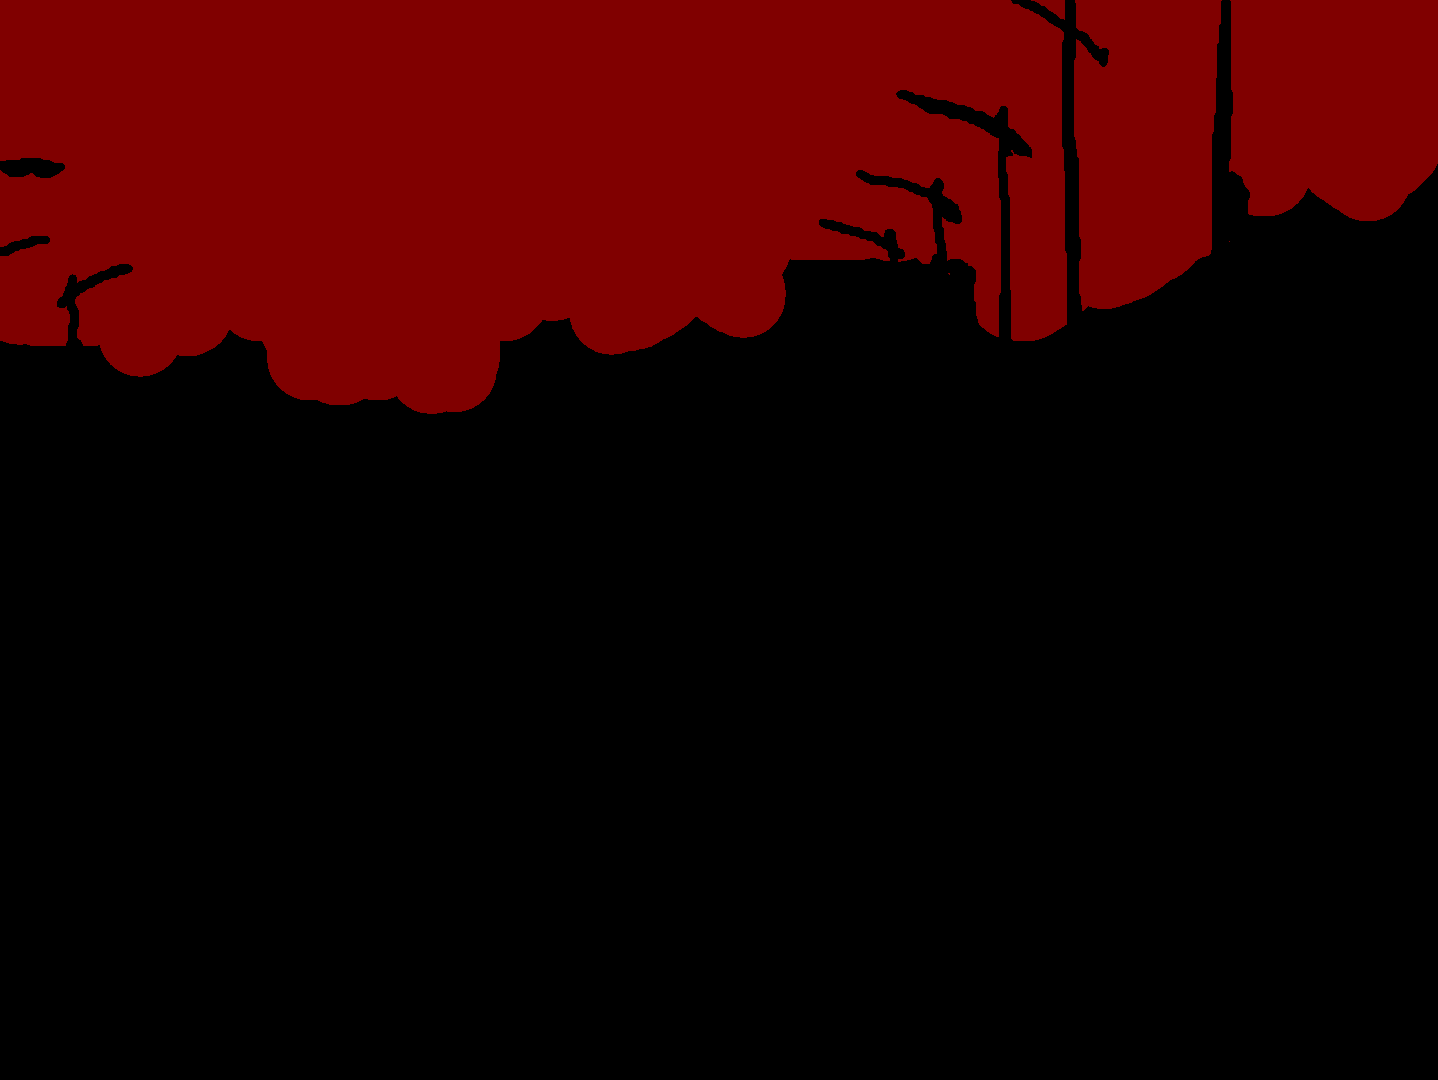Sky: (1, 1, 1437, 414)
